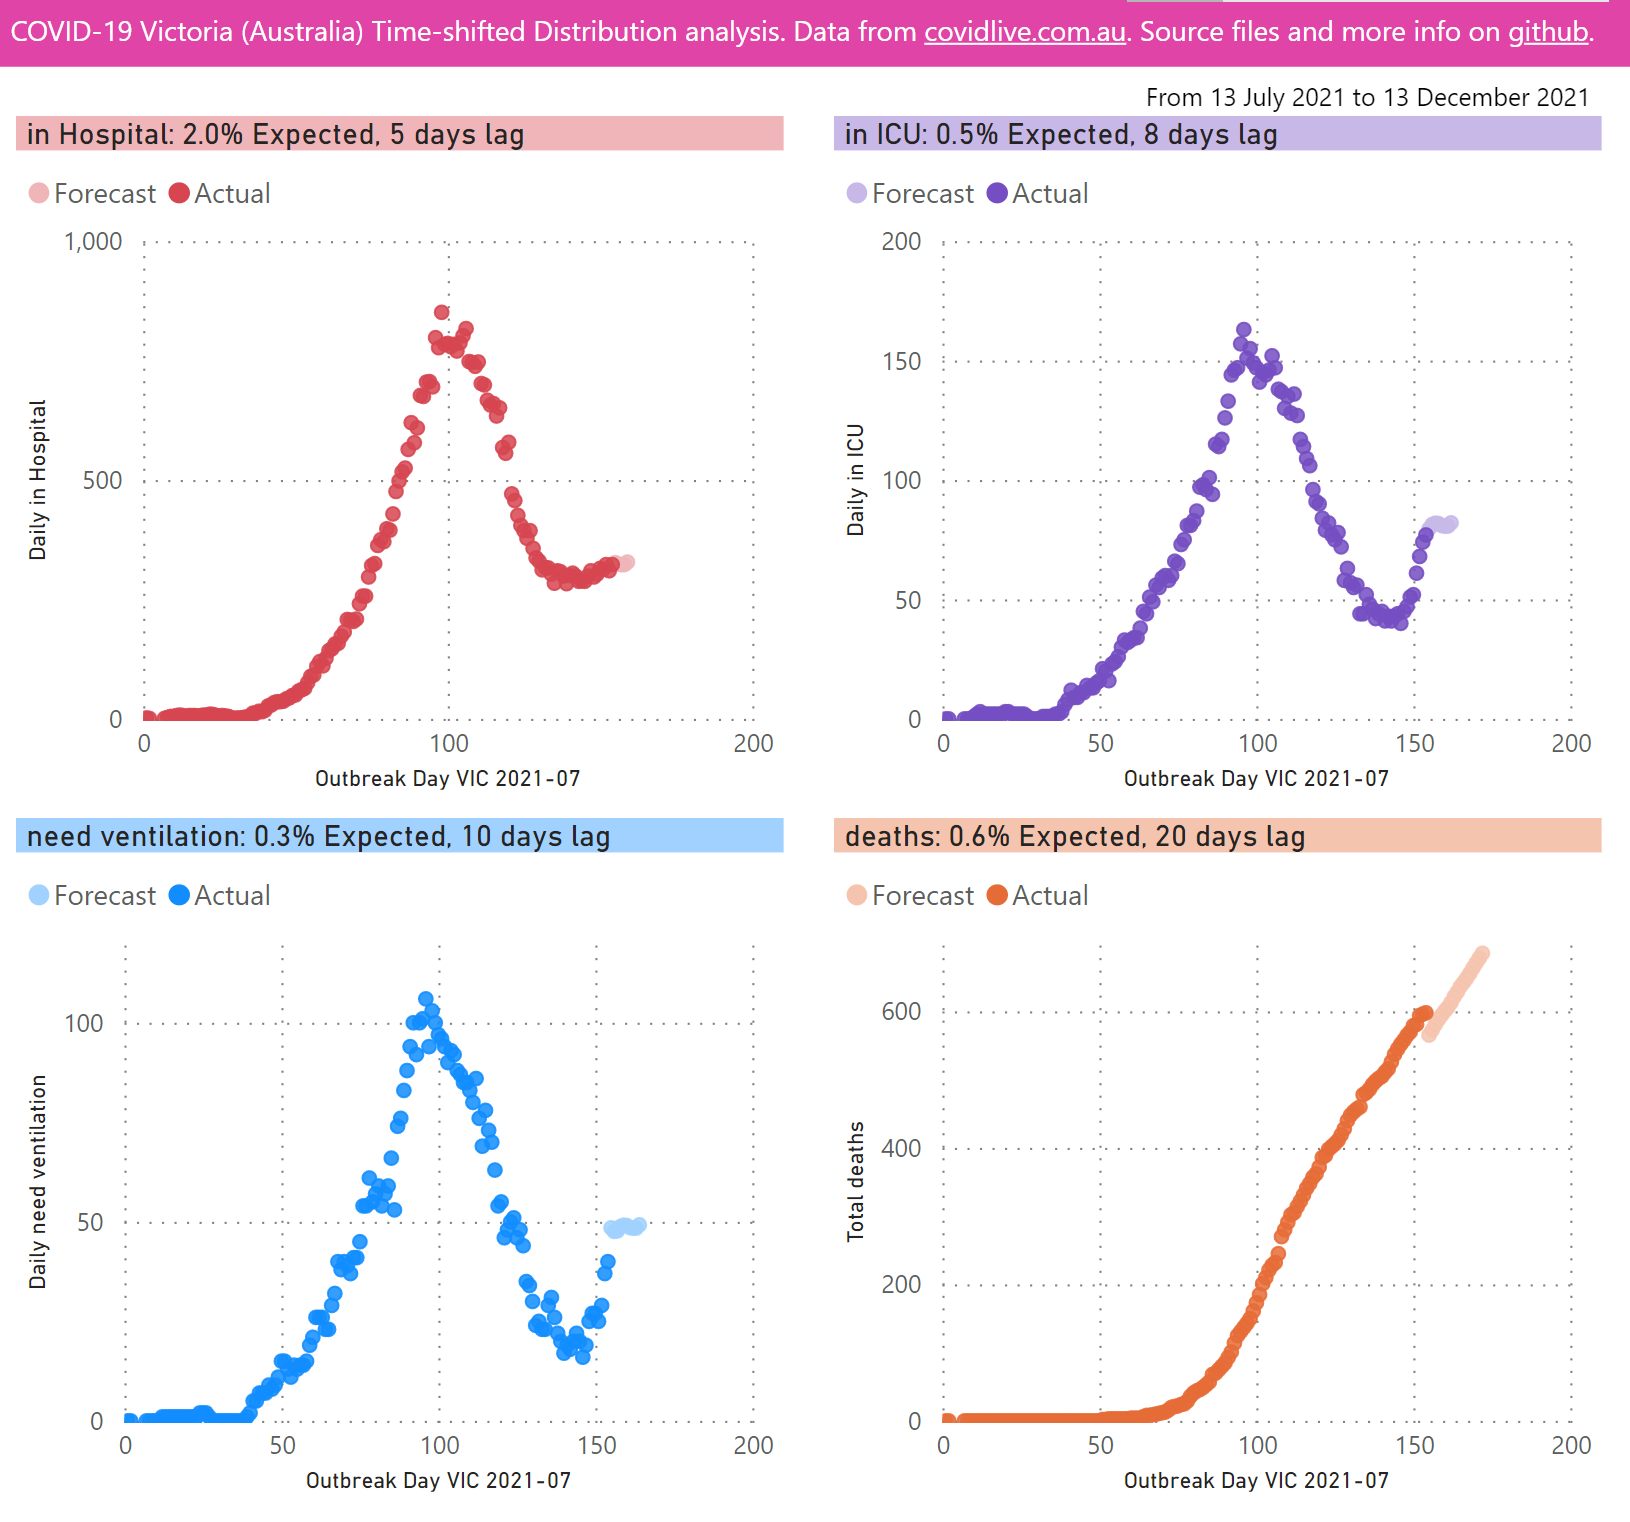

This screenshot's page, from the dashboard's own definition file:
{"tool":"powerbi","page":{"name":"TSD VIC 2021-07","canvas":[1280,720],"ordinal":3},"visuals":[{"type":"scatterChart","fields":{"X":["Sum(Dates.Outbreak Day VIC 2021-07)"],"Series":["Series.Series"],"Category":["Dates.Date"],"Y":["covid-live.# Total in Metric w Fcst"]},"box":[400,392,368,328],"z":0},{"type":"shape","box":[1104,434,160,264],"z":1000},{"type":"shape","box":[928,434,160,264],"z":2000},{"type":"shape","box":[1104,160,160,264],"z":3000},{"type":"shape","box":[928,160,160,264],"z":4000},{"type":"scatterChart","fields":{"X":["Sum(Dates.Outbreak Day VIC 2021-07)"],"Series":["Series.Series"],"Category":["Dates.Date"],"Y":["covid-live.# Total in Metric w Fcst"]},"box":[8,56,368,328],"z":5000},{"type":"slicer","fields":{"Values":["covid-live.Report Date"]},"box":[1056,48,208,112],"z":6000},{"type":"slicer","fields":{"Values":["Metric Expected.%.% Metric Expected"]},"box":[936,184,144,112],"z":7000},{"type":"slicer","fields":{"Values":["Days to Lag.Days to Lag"]},"box":[936,304,144,112],"z":8000},{"type":"textbox","box":[0,0,1280,32],"z":9000},{"type":"scatterChart","fields":{"X":["Sum(Dates.Outbreak Day VIC 2021-07)"],"Series":["Series.Series"],"Category":["Dates.Date"],"Y":["covid-live.# Total in Metric w Fcst"]},"box":[8,392,368,328],"z":10000},{"type":"scatterChart","fields":{"X":["Sum(Dates.Outbreak Day VIC 2021-07)"],"Series":["Series.Series"],"Category":["Dates.Date"],"Y":["covid-live.# Total in Metric w Fcst"]},"box":[400,56,368,328],"z":11000},{"type":"slicer","fields":{"Values":["% Metric Expected.%.% Metric Expected"]},"box":[1112.9,184.7,144,112],"z":12000},{"type":"slicer","fields":{"Values":["Days to Lag.Days to Lag"]},"box":[1112.9,304.7,144,112],"z":13000},{"type":"slicer","fields":{"Values":["% Metric Expected.%.% Metric Expected"]},"box":[936,458,144,112],"z":15000},{"type":"slicer","fields":{"Values":["Days to Lag.Days to Lag"]},"box":[936,578,144,112],"z":16000},{"type":"slicer","fields":{"Values":["% Metric Expected.%.% Metric Expected"]},"box":[1112.9,458.7,144,112],"z":17000},{"type":"slicer","fields":{"Values":["Days to Lag.Days to Lag"]},"box":[1112.9,578.7,144,112],"z":18000},{"type":"htmlContent443BE3AD55E043BF878BED274D3A6855","fields":{"content":["covid-live./ Report Date Range"]},"box":[512.3,31.6,255.5,31.6],"z":19000},{"type":"htmlContent443BE3AD55E043BF878BED274D3A6855","fields":{"content":["covid-live.@ Last Forecast"]},"box":[800,32,256,32],"z":20000},{"type":"htmlContent443BE3AD55E043BF878BED274D3A6855","fields":{"content":["covid-live.@ Last Forecast"]},"box":[800,64,256,32],"z":21000},{"type":"htmlContent443BE3AD55E043BF878BED274D3A6855","fields":{"content":["covid-live.@ Last Forecast"]},"box":[800,96,256,32],"z":22000},{"type":"htmlContent443BE3AD55E043BF878BED274D3A6855","fields":{"content":["covid-live.@ Last Forecast"]},"box":[800,128,256,32],"z":23000},{"type":"slicer","fields":{"Values":["Show Forecasts.Show Forecast"]},"box":[800,616,128,80],"z":24000}]}

Visuals, with their boxes on the page's 1280x720 design canvas (x1, y1, x2, y2). These are canvas units, not pixel positions in the 1630x1522 screenshot, which may show the page scaled, cropped or inside an application window:
scatterChart - Sum(Dates.Outbreak Day VIC 2021-07) x Series.Series: x1=400 y1=392 x2=768 y2=720
shape: x1=1104 y1=434 x2=1264 y2=698
shape: x1=928 y1=434 x2=1088 y2=698
shape: x1=1104 y1=160 x2=1264 y2=424
shape: x1=928 y1=160 x2=1088 y2=424
scatterChart - Sum(Dates.Outbreak Day VIC 2021-07) x Series.Series: x1=8 y1=56 x2=376 y2=384
slicer - covid-live.Report Date: x1=1056 y1=48 x2=1264 y2=160
slicer - Metric Expected.%.% Metric Expected: x1=936 y1=184 x2=1080 y2=296
slicer - Days to Lag.Days to Lag: x1=936 y1=304 x2=1080 y2=416
textbox: x1=0 y1=0 x2=1280 y2=32
scatterChart - Sum(Dates.Outbreak Day VIC 2021-07) x Series.Series: x1=8 y1=392 x2=376 y2=720
scatterChart - Sum(Dates.Outbreak Day VIC 2021-07) x Series.Series: x1=400 y1=56 x2=768 y2=384
slicer - % Metric Expected.%.% Metric Expected: x1=1113 y1=185 x2=1257 y2=297
slicer - Days to Lag.Days to Lag: x1=1113 y1=305 x2=1257 y2=417
slicer - % Metric Expected.%.% Metric Expected: x1=936 y1=458 x2=1080 y2=570
slicer - Days to Lag.Days to Lag: x1=936 y1=578 x2=1080 y2=690
slicer - % Metric Expected.%.% Metric Expected: x1=1113 y1=459 x2=1257 y2=571
slicer - Days to Lag.Days to Lag: x1=1113 y1=579 x2=1257 y2=691
htmlContent443BE3AD55E043BF878BED274D3A6855 - covid-live./ Report Date Range: x1=512 y1=32 x2=768 y2=63
htmlContent443BE3AD55E043BF878BED274D3A6855 - covid-live.@ Last Forecast: x1=800 y1=32 x2=1056 y2=64
htmlContent443BE3AD55E043BF878BED274D3A6855 - covid-live.@ Last Forecast: x1=800 y1=64 x2=1056 y2=96
htmlContent443BE3AD55E043BF878BED274D3A6855 - covid-live.@ Last Forecast: x1=800 y1=96 x2=1056 y2=128
htmlContent443BE3AD55E043BF878BED274D3A6855 - covid-live.@ Last Forecast: x1=800 y1=128 x2=1056 y2=160
slicer - Show Forecasts.Show Forecast: x1=800 y1=616 x2=928 y2=696
